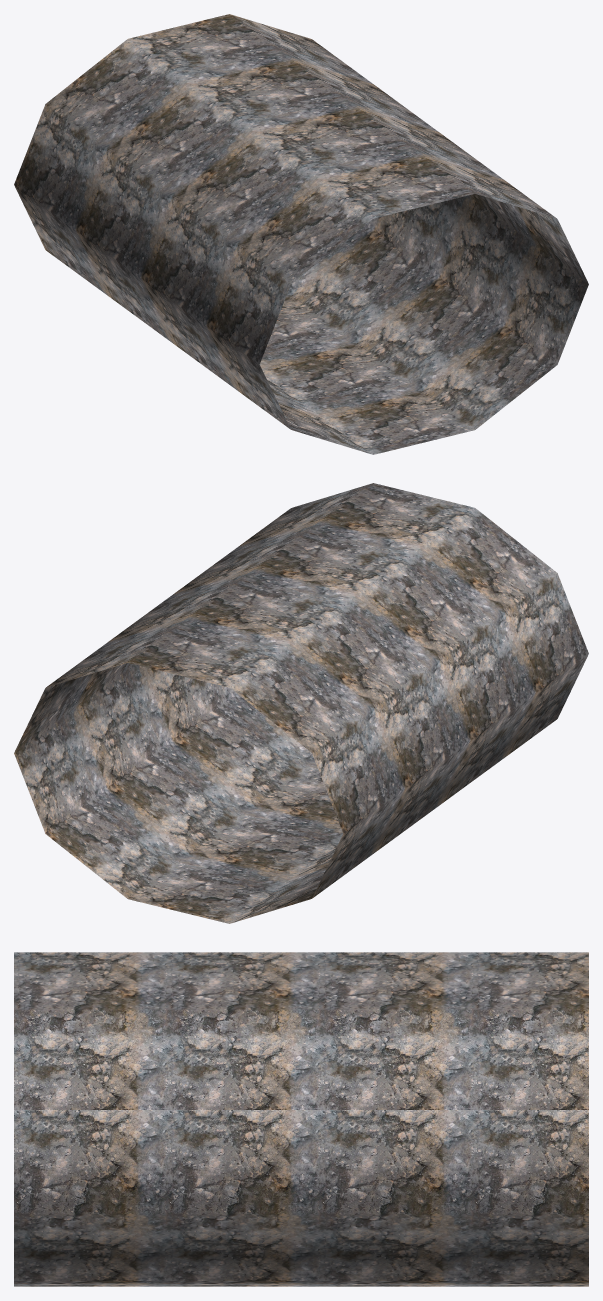
Rendered from cave.fbx.
3 views of the same model, one above another, from view 1: azimuth 30°, elevation 25°; view 2: azimuth 150°, elevation 25°; view 3: azimuth 270°, elevation 25° (orthographic). The views are drawn at different scales.
Visible parts, largest first — view 1: pCylinder1; view 2: pCylinder1; view 3: pCylinder1.
Boxes of the visible parts, x1=… form: pCylinder1: x1=14, y1=14, x2=588, y2=454; pCylinder1: x1=14, y1=483, x2=588, y2=923; pCylinder1: x1=14, y1=952, x2=588, y2=1286.
Size of the model in its own units: 72.16 by 49.48 by 93.24.
Materials: 1 (1 with a texture image).
